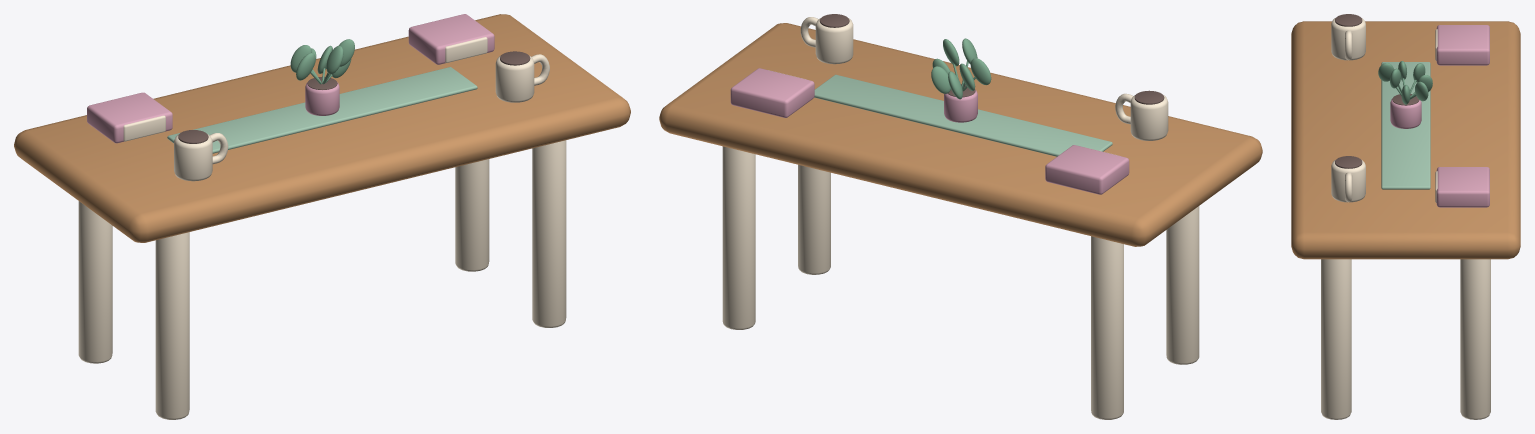
Rendered from shared-table.glb.
The picture shows the model from 3 angles, left to right: view 1: azimuth 30°, elevation 25°; view 2: azimuth 150°, elevation 25°; view 3: azimuth 270°, elevation 25°; orthographic projection. The views are drawn at different scales.
Visible parts, largest first — view 1: AssetSurface; view 2: AssetSurface; view 3: AssetSurface.
Part boxes in pixels (bbox=[...]): AssetSurface: bbox=[14, 14, 630, 419]; AssetSurface: bbox=[659, 14, 1262, 419]; AssetSurface: bbox=[1291, 14, 1520, 419].
Bounding box in the file's own units: 2.55 × 1.46 × 1.12.
